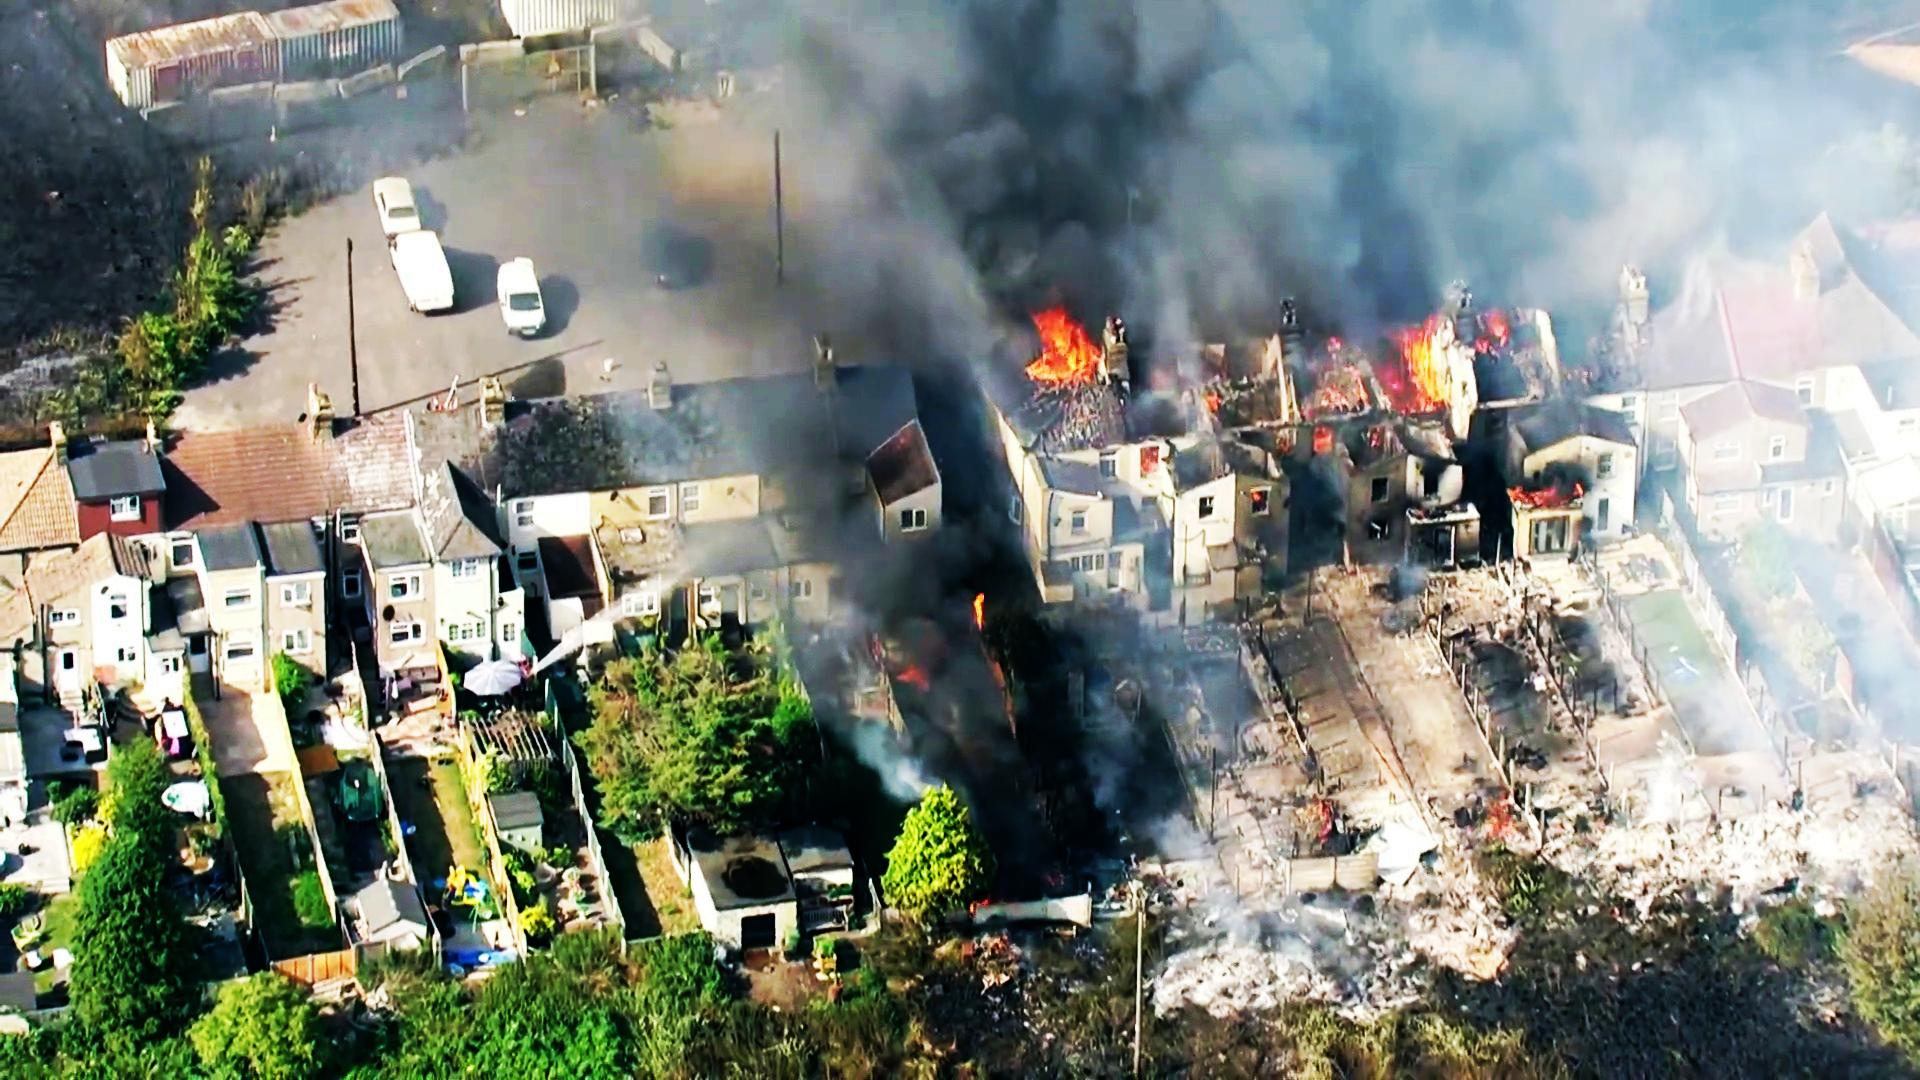fire: (1010, 295, 1121, 398), (1386, 313, 1462, 417)
smoke: (858, 0, 1353, 293), (1172, 0, 1607, 258)
